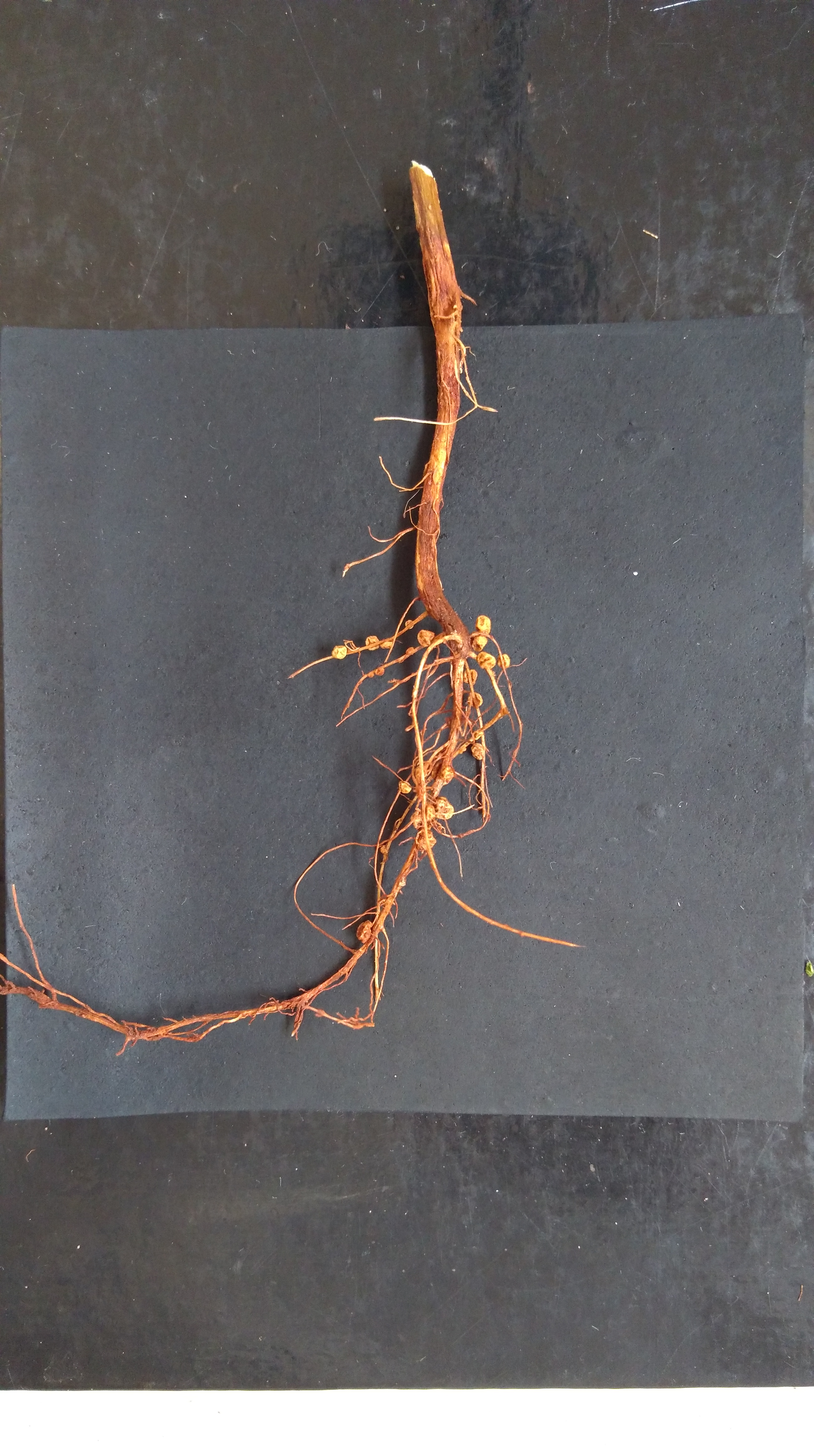nodule: (434, 795, 454, 821), (417, 829, 437, 851), (355, 918, 372, 943), (476, 651, 497, 670), (474, 614, 492, 635), (416, 629, 435, 648), (471, 634, 488, 653), (331, 644, 349, 661), (364, 635, 380, 652), (463, 668, 478, 686), (470, 742, 484, 761), (467, 692, 484, 707), (440, 765, 456, 780), (409, 810, 421, 829), (497, 652, 511, 668), (425, 803, 436, 821), (398, 780, 412, 794), (471, 729, 484, 741), (379, 640, 393, 650), (404, 619, 415, 631), (374, 666, 385, 677), (404, 646, 415, 656), (368, 671, 375, 678), (380, 846, 386, 853)
